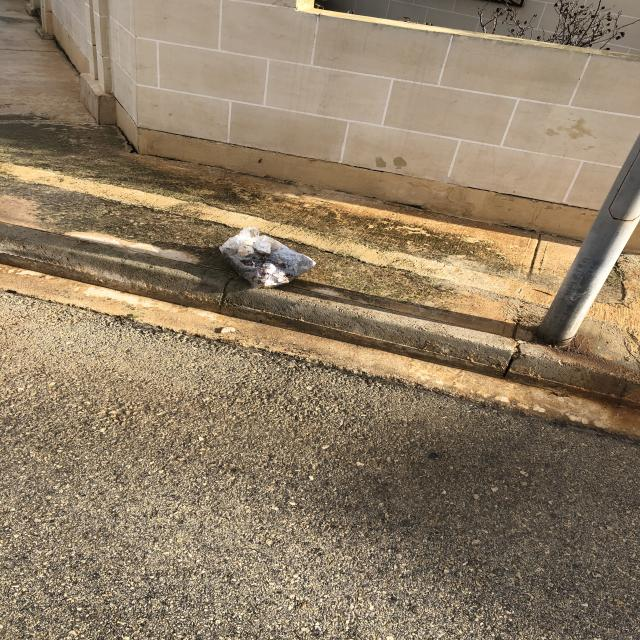Organic Waste -White Bag-: (217, 226, 322, 293)
